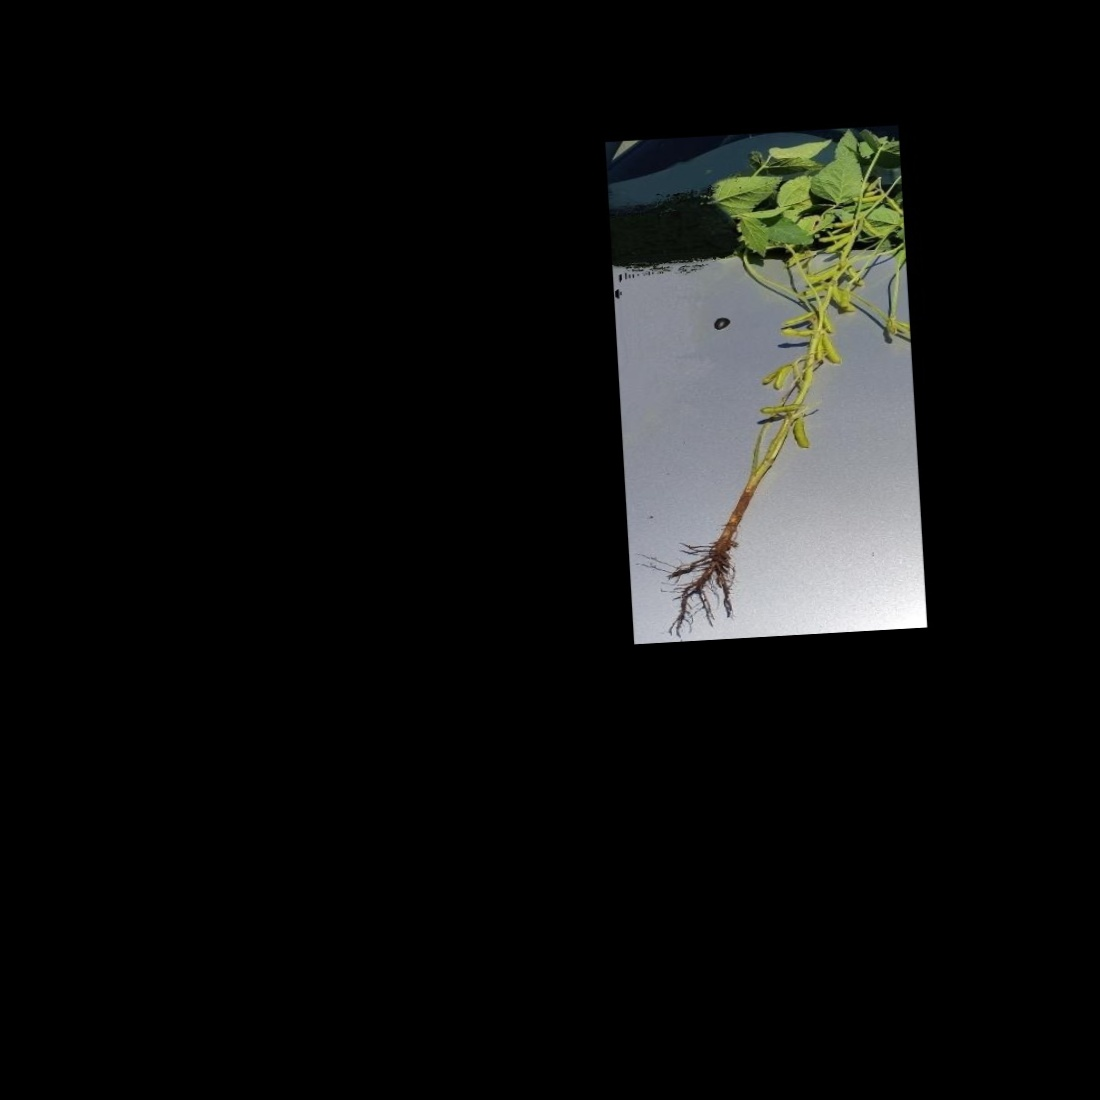pod: (768, 362, 797, 392), (820, 333, 844, 369), (776, 310, 825, 327), (789, 412, 810, 451), (820, 234, 852, 257), (754, 403, 802, 416), (777, 326, 824, 339), (813, 230, 854, 244)
soy: (637, 150, 916, 603)
